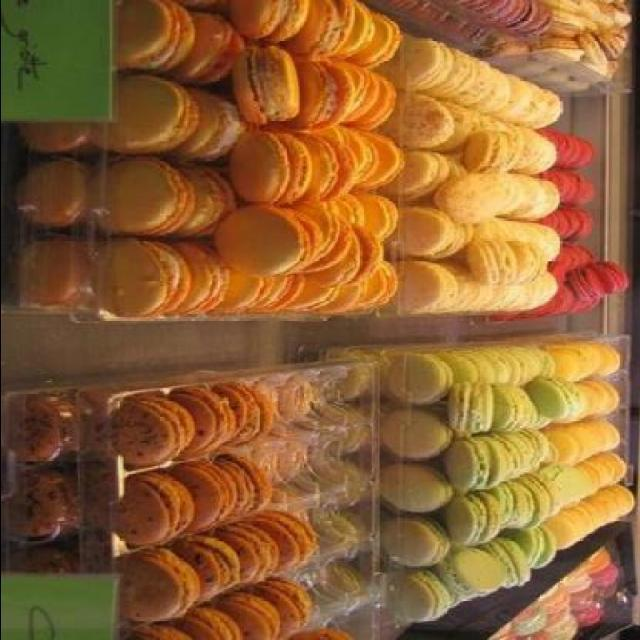Macaron: (97, 1, 634, 639)
